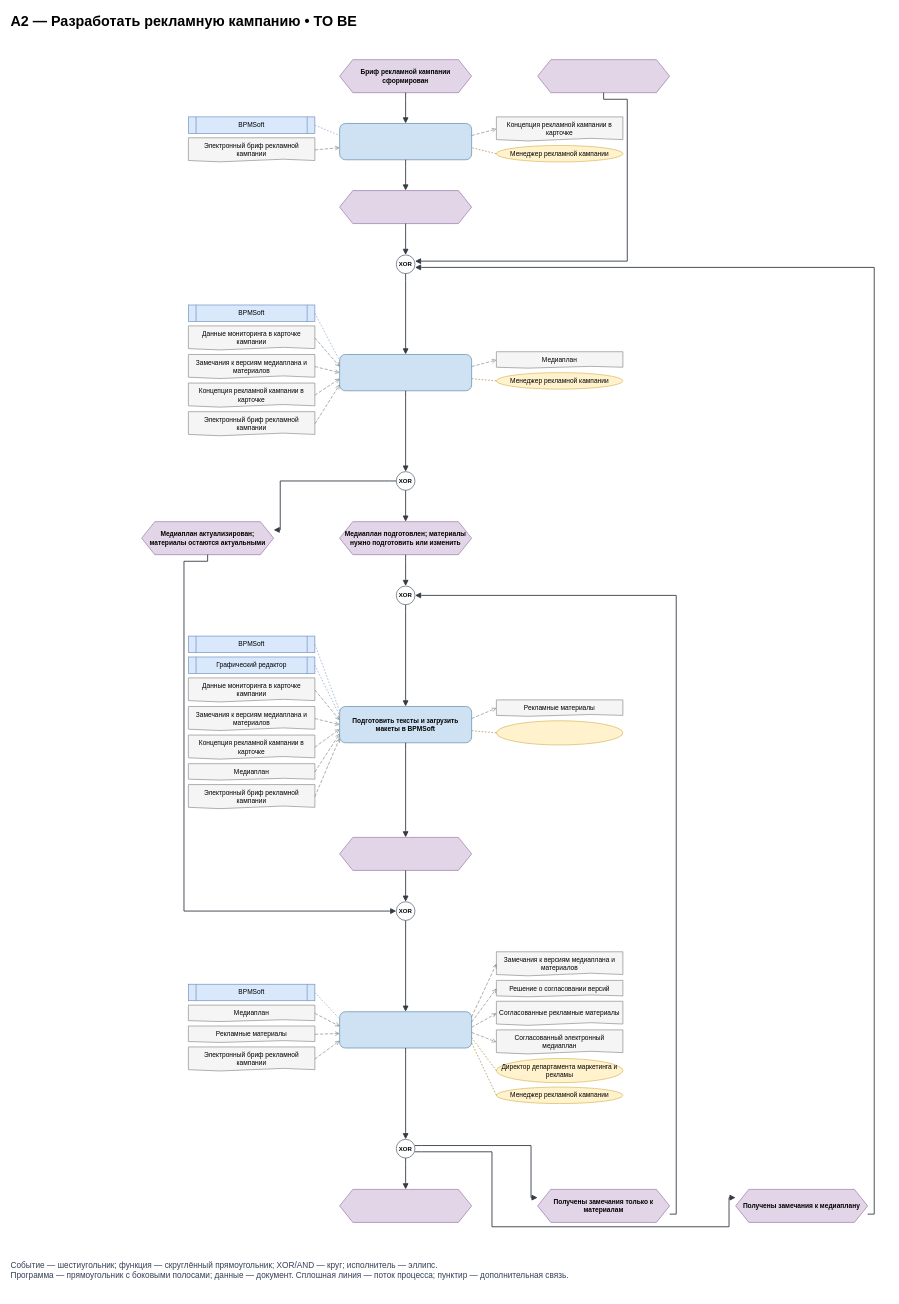
Image size: 899x1304. Some labels were removed from this diagram. Each missing label, with the box of its shape:
Концепция рекламной кампании подготовлена: (339, 190, 472, 224)
Медиаплан и рекламные материалы согласованы: (339, 1189, 472, 1222)
Разработать концепцию в карточке BPMSoft: (339, 123, 472, 160)
Рекламные материалы подготовлены: (339, 837, 472, 870)
Согласовать версии плана и материалов в BPMSoft: (339, 1011, 472, 1048)
Специалист по разработке рекламных материалов: (496, 720, 623, 745)
Сформировать электронный медиаплан: (339, 354, 472, 391)
Требуется повторное согласование изменённых условий: (537, 59, 670, 93)
